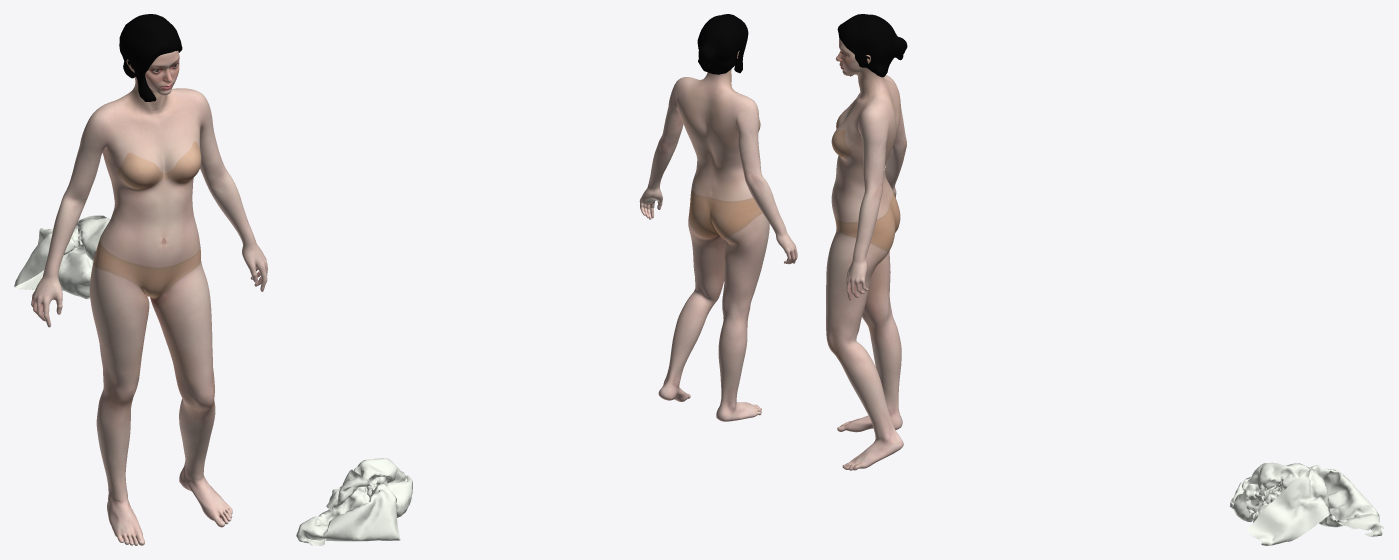
The model's file is Dynamic.obj.
The picture shows the model from 3 angles, left to right: view 1: azimuth 30°, elevation 25°; view 2: azimuth 150°, elevation 25°; view 3: azimuth 270°, elevation 25°; orthographic projection. The views are drawn at different scales.
Size of the model in its own units: 1339 by 1773 by 2097.
